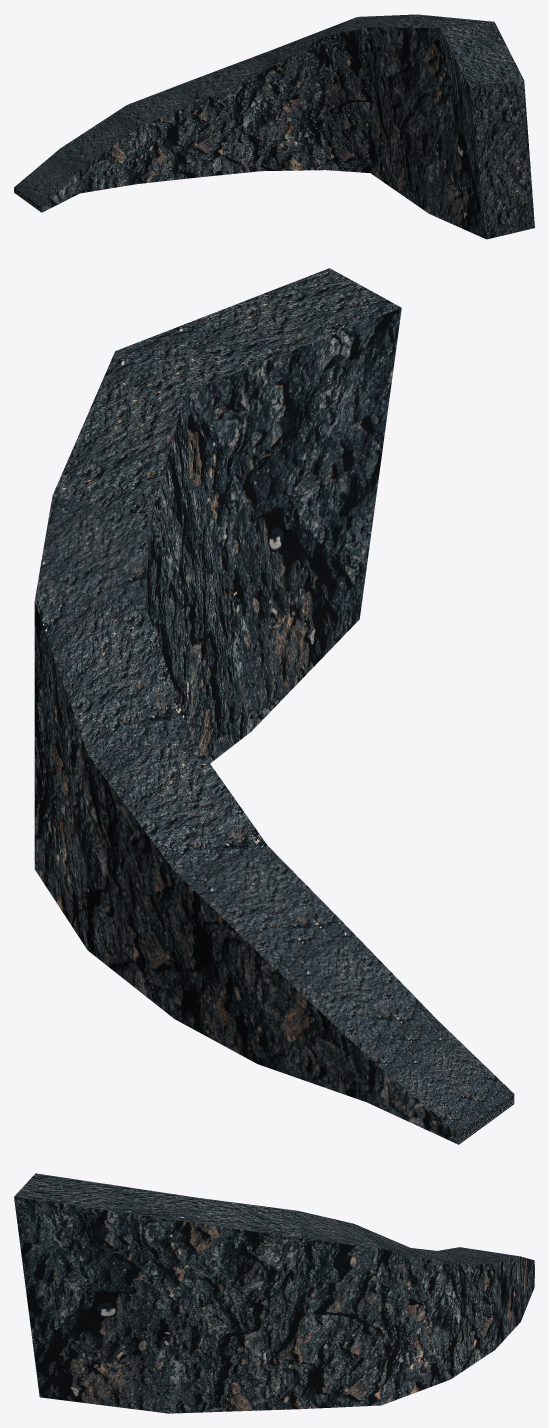
Rendered from Ramp2.fbx.
The picture shows the model from 3 angles, top to bottom: view 1: azimuth 30°, elevation 25°; view 2: azimuth 150°, elevation 25°; view 3: azimuth 270°, elevation 25°; orthographic projection. The views are drawn at different scales.
Visible parts, largest first — view 1: Cube; view 2: Cube; view 3: Cube.
Part boxes in pixels (bbox=[...]): Cube: bbox=[14, 14, 534, 239]; Cube: bbox=[34, 268, 514, 1144]; Cube: bbox=[14, 1173, 534, 1413].
Bounding box in the file's own units: 3998 × 2402 × 4730.
